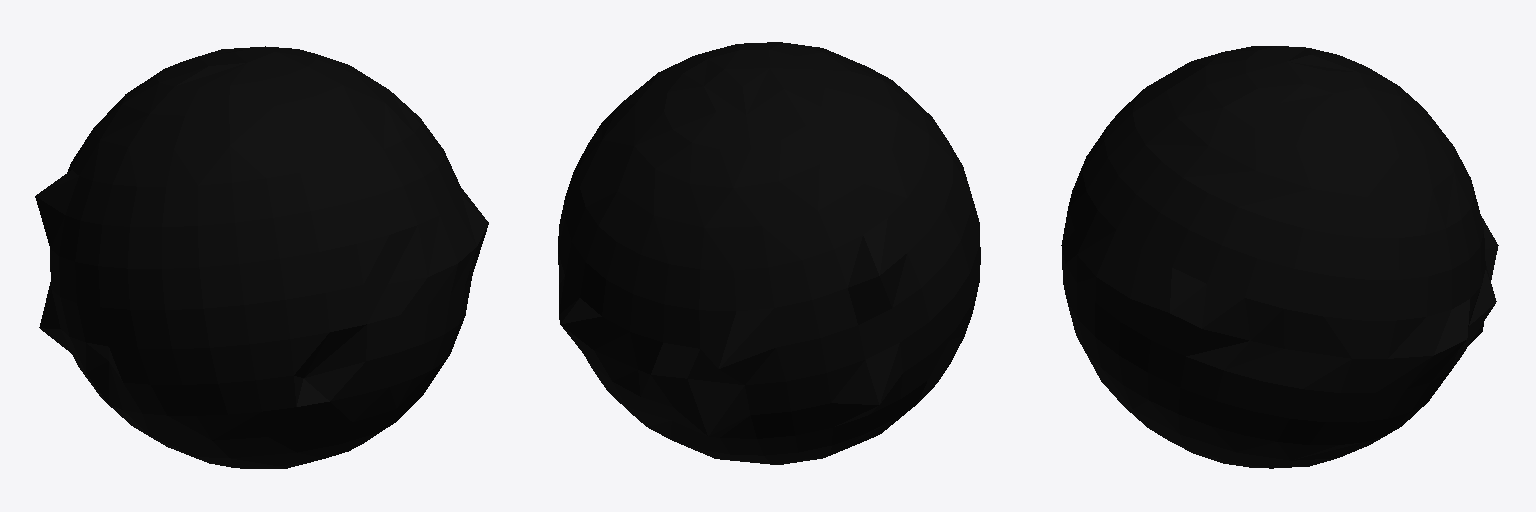
File: Nao6_Right_Arm_Elbow.obj
3 views of the same model, side by side, from view 1: azimuth 30°, elevation 25°; view 2: azimuth 150°, elevation 25°; view 3: azimuth 270°, elevation 25° (orthographic).
Visible parts, largest first — view 1: Nao6_Right_Arm_Elbow; view 2: Nao6_Right_Arm_Elbow; view 3: Nao6_Right_Arm_Elbow.
Boxes of the visible parts, x1,y1,x2,y2 form: Nao6_Right_Arm_Elbow: [35, 46, 488, 468]; Nao6_Right_Arm_Elbow: [558, 42, 980, 464]; Nao6_Right_Arm_Elbow: [1061, 46, 1498, 468].
Size of the model in its own units: 0.211 by 0.2122 by 0.2191.